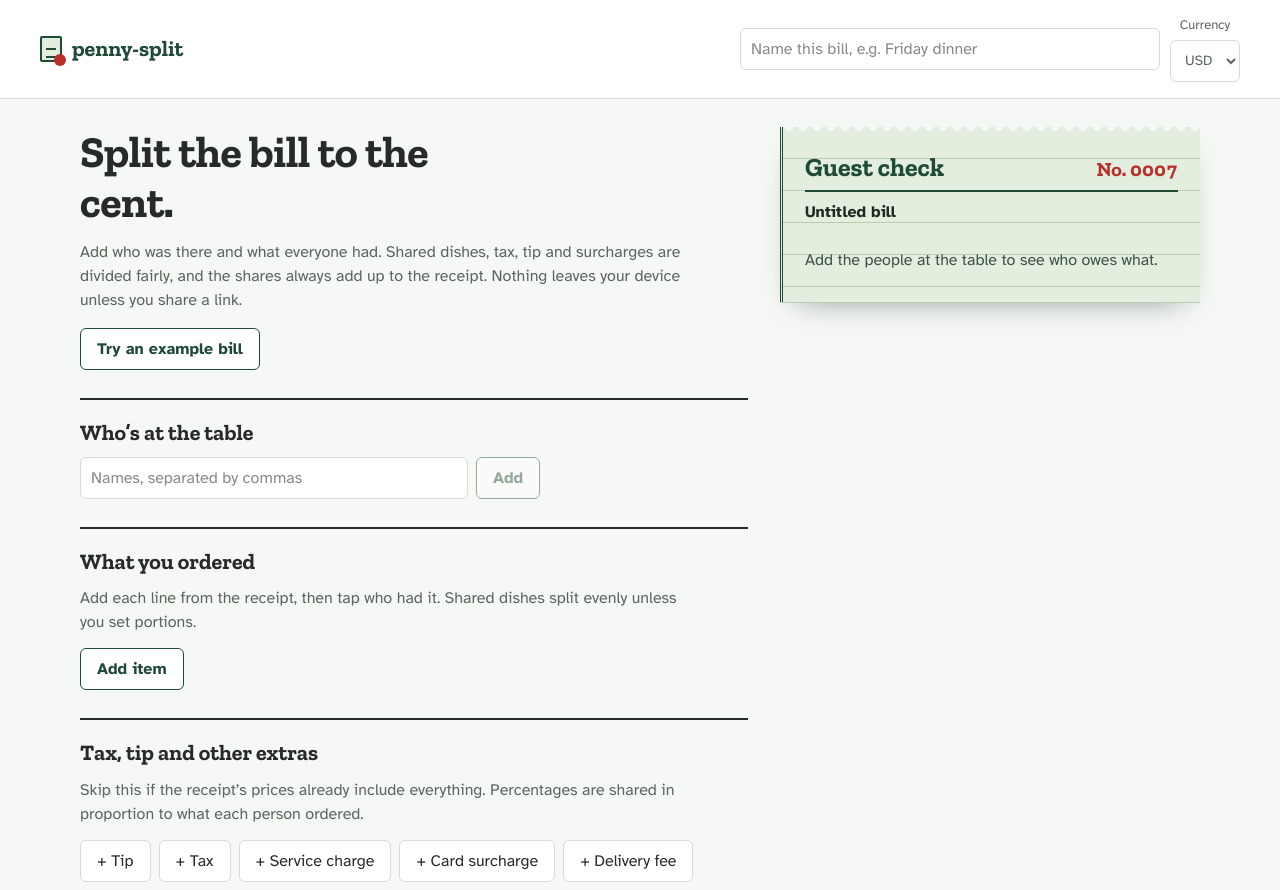
Test: App › loads the example and checks it against the receipt
Click the button "Try an example bill" at (170, 349), box [80,328,260,370]
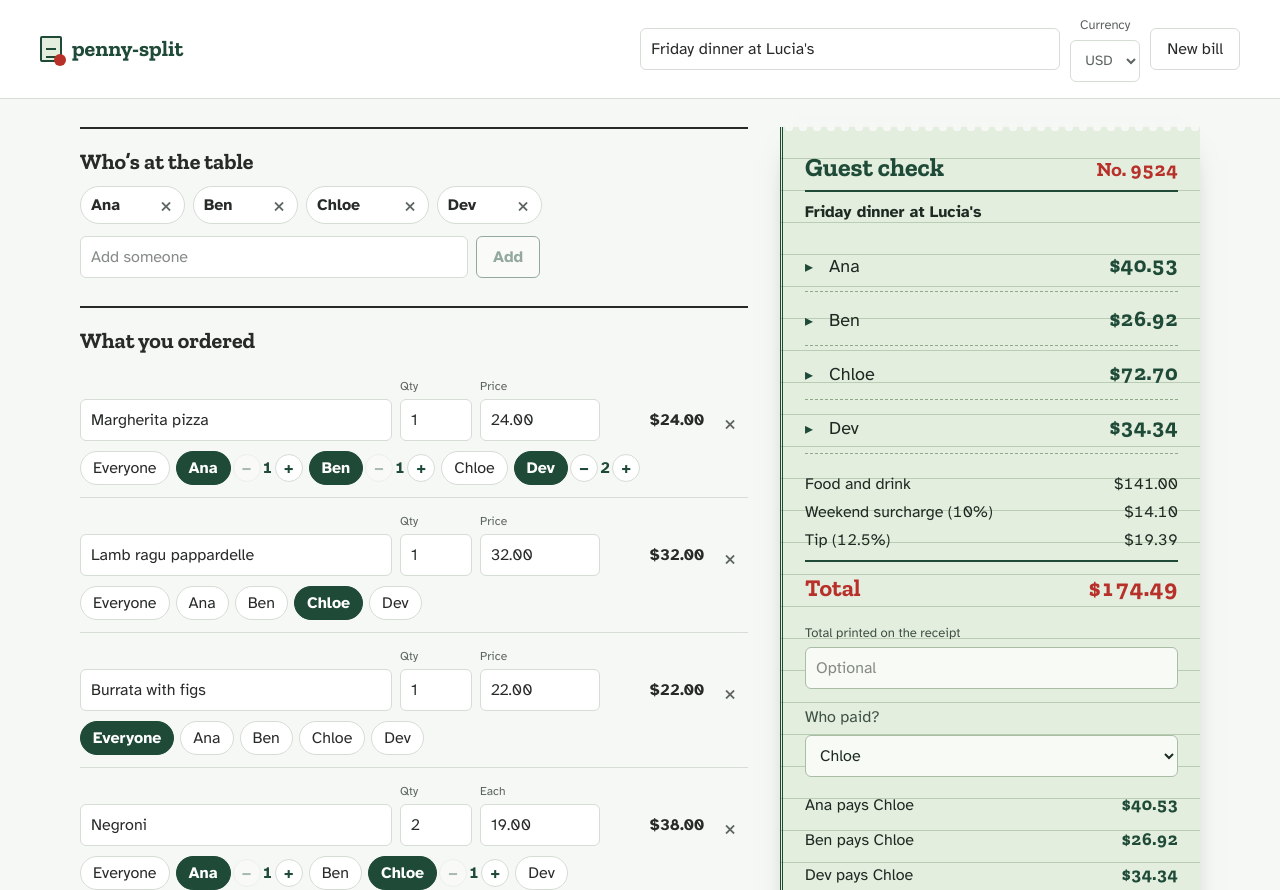
Now the field named "Bill name" next to "Currency" holds "Friday dinner at Lucia's", box [640,28,1060,70]
Type "174.49" into the field labelled "Total printed on the receipt" at (992, 668), box [805,647,1178,689]
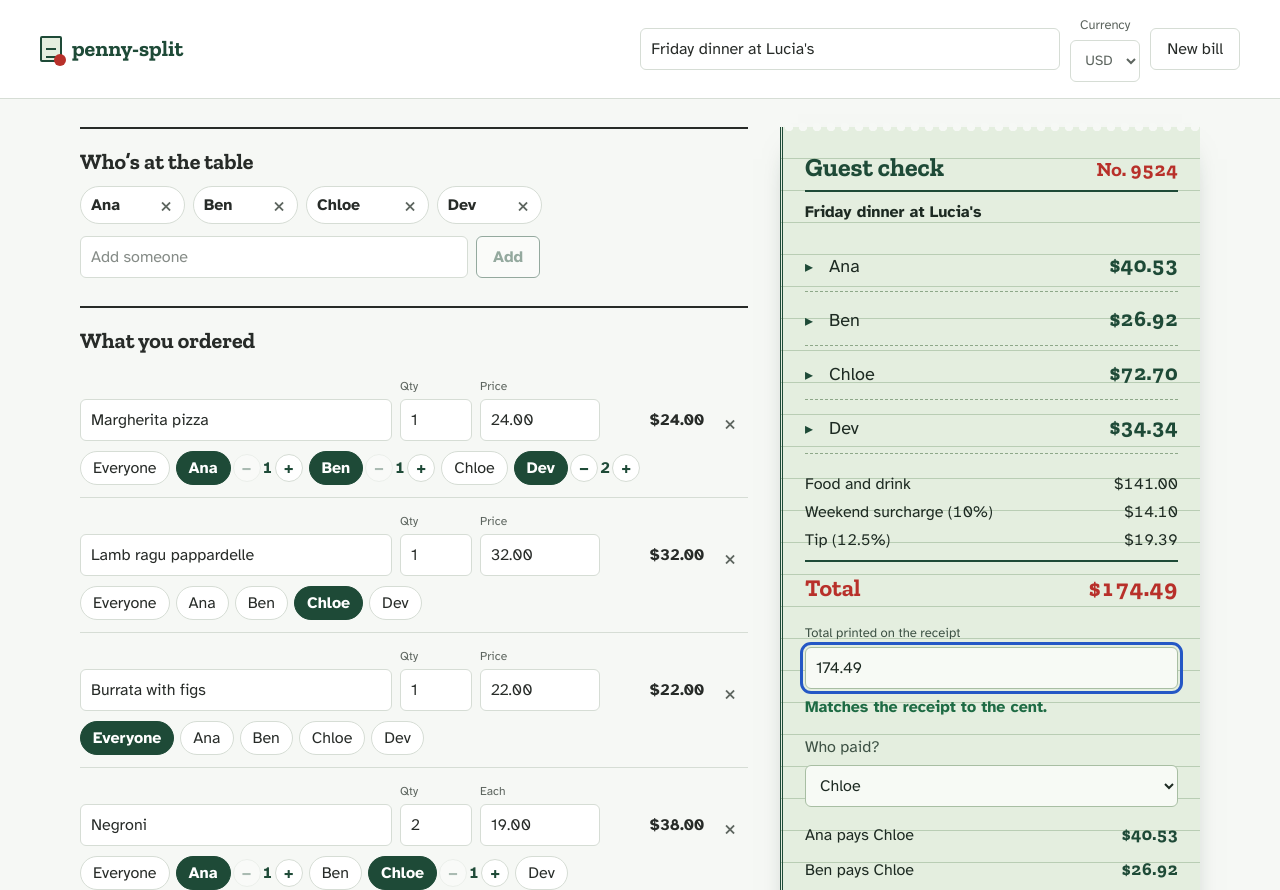
Now the text "Matches the receipt to the cent." is shown, box [805,697,1047,717]
Replace the text in the field labelled "Total printed on the receipt" with "170" at (992, 668), box [805,647,1178,689]
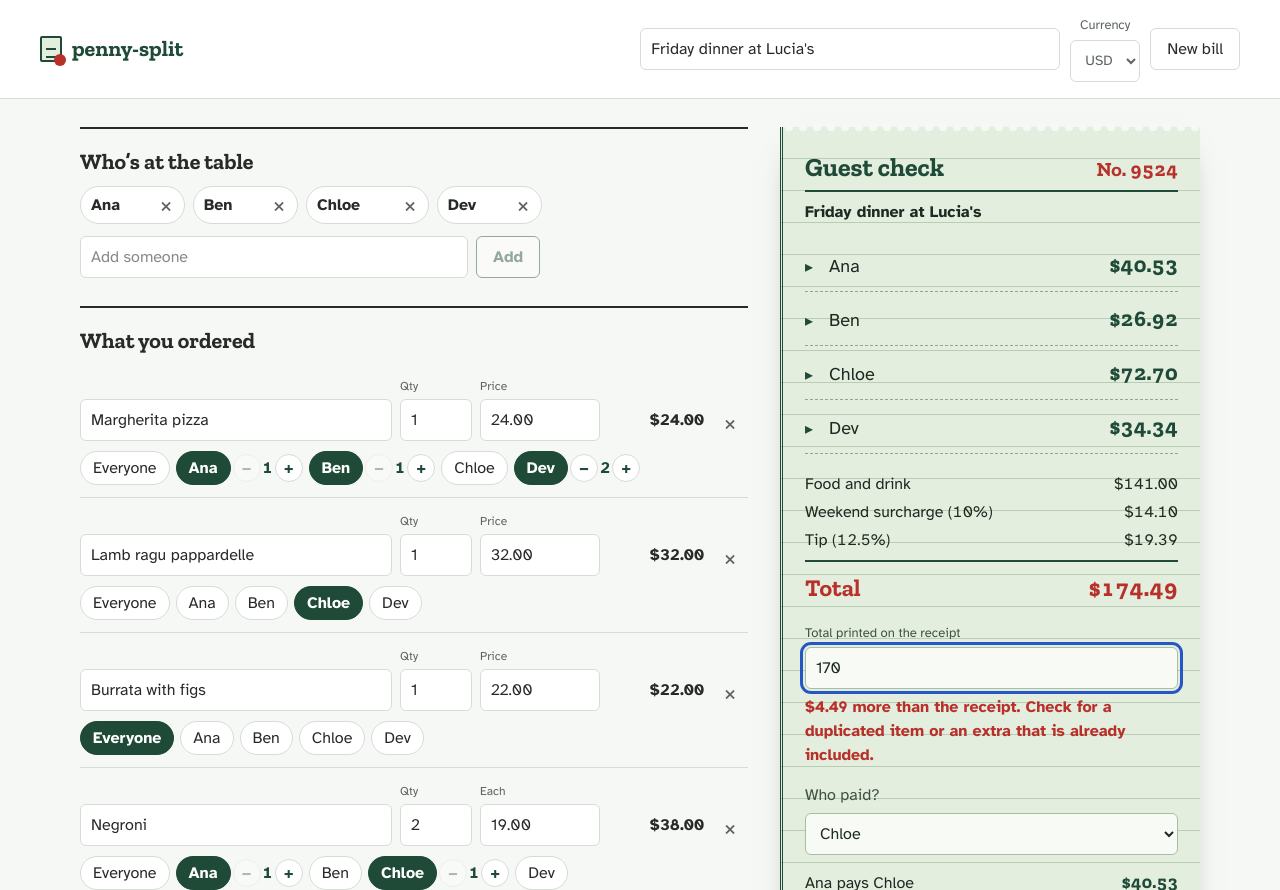
Now the text "more than the receipt" is shown, box [805,697,1126,765]
